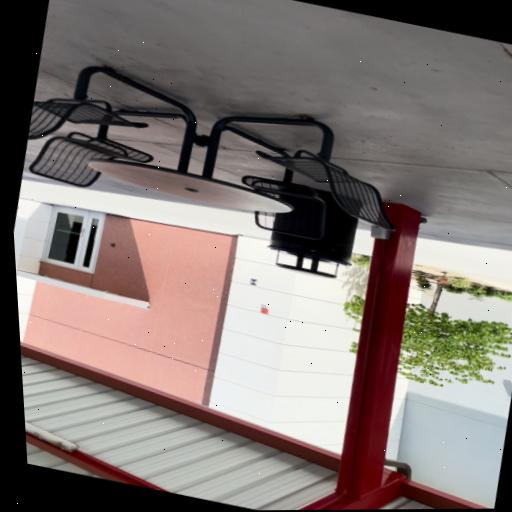target2: (249, 278, 258, 286)
